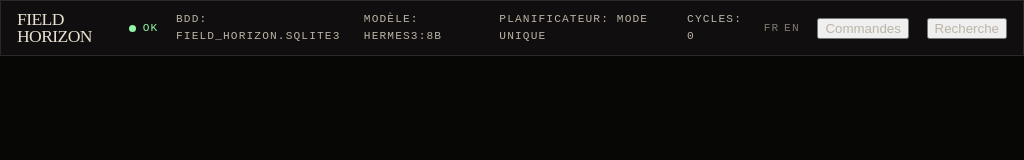
TopBar i18n switch › switches every translated label to English when EN is clicked
Step 1. Click the button "EN" → (792, 28), box [784,22,800,34]
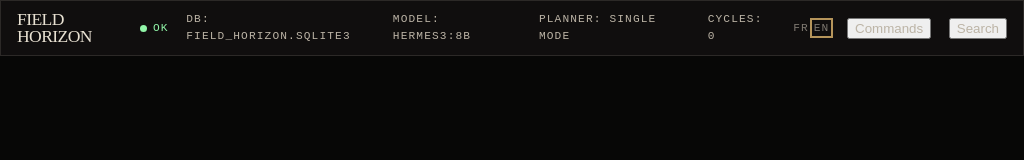
Expected: the text "db: field_horizon.sqlite3" is shown, [186,11,375,45]
Expected: the text "model: hermes3:8b" is shown, [393,13,471,42]
Expected: the text "bdd" is gone
